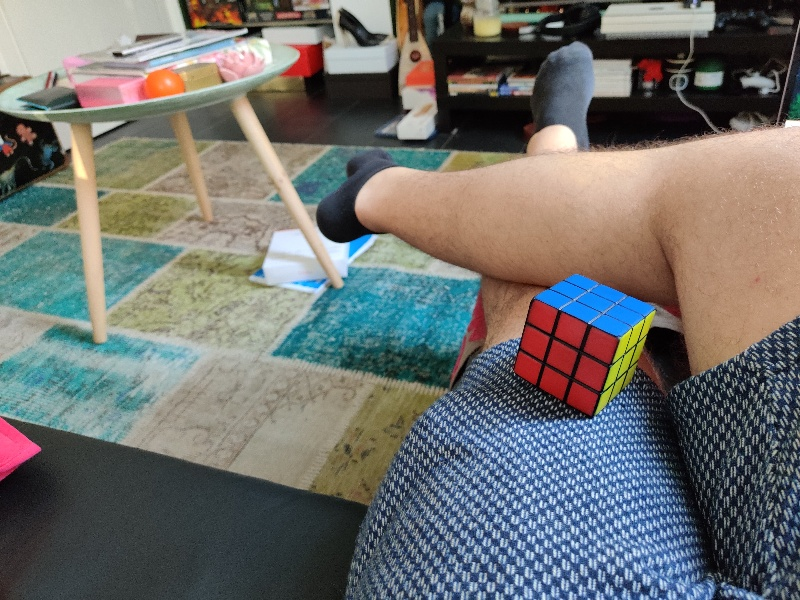rubik: (513, 273, 655, 417)
